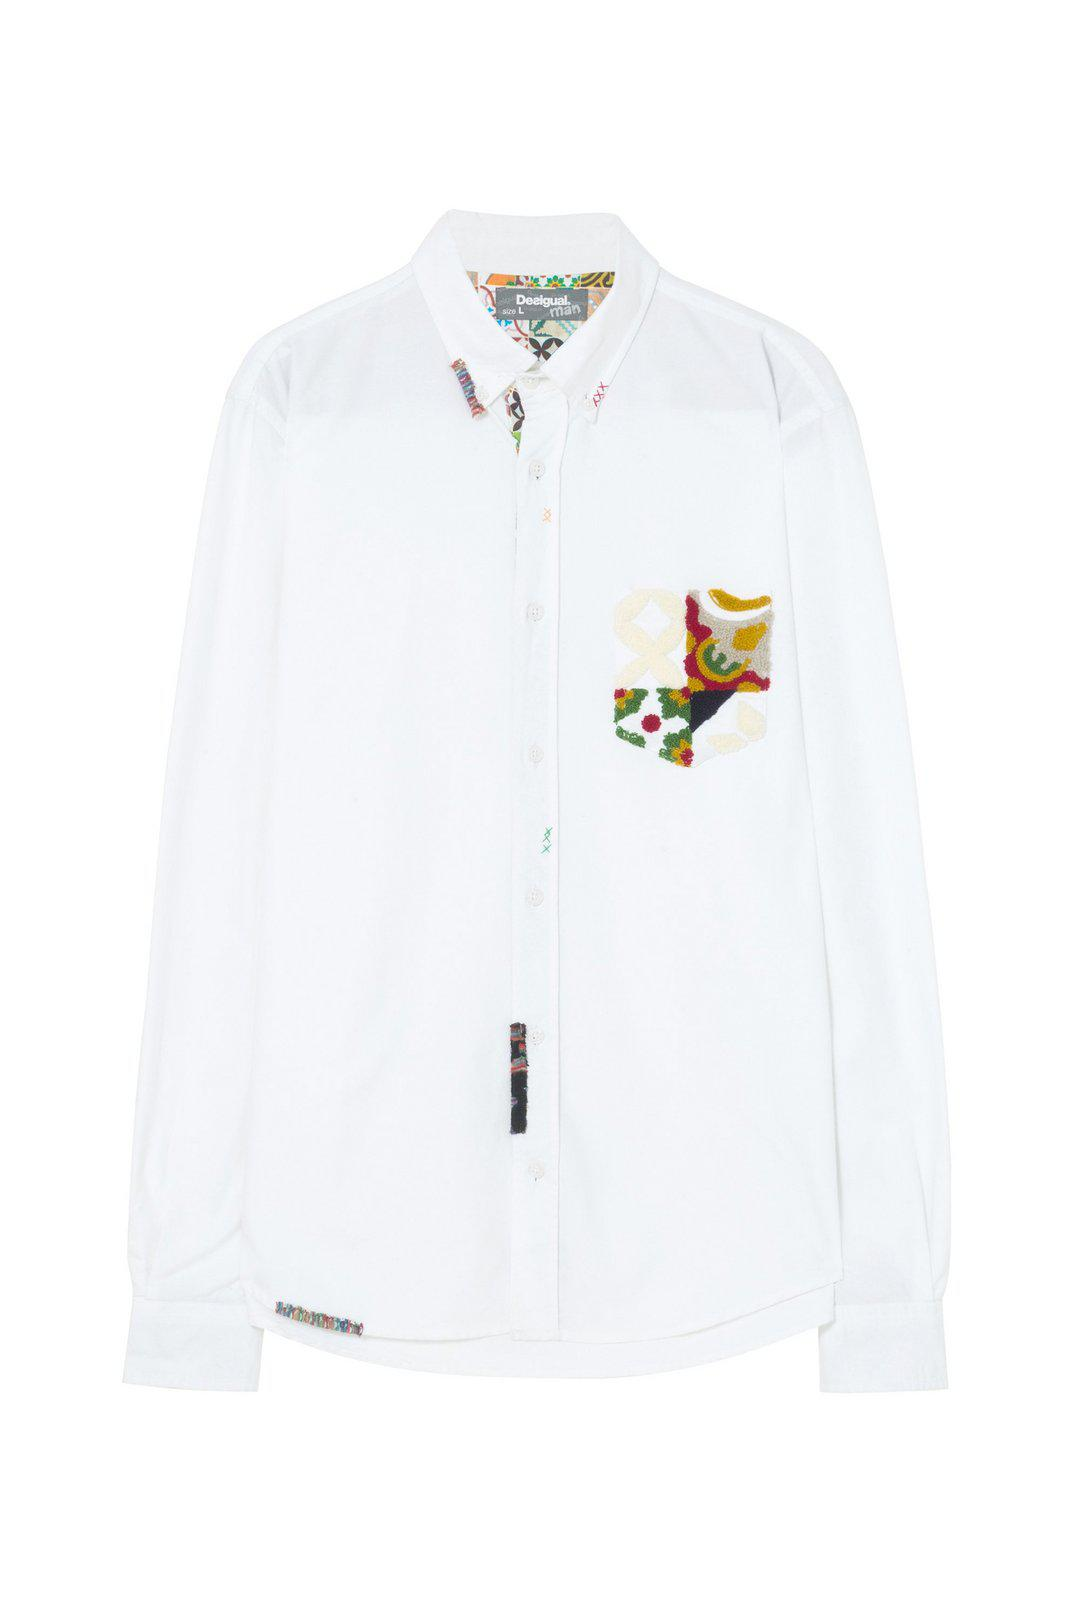teeshirt: (128, 182, 1000, 1492)
